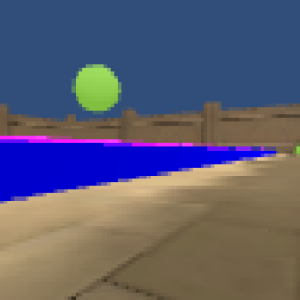goodGoal: (72, 62, 121, 114), (292, 144, 300, 156)
platform: (2, 146, 274, 196)
ramp: (1, 133, 189, 147)
